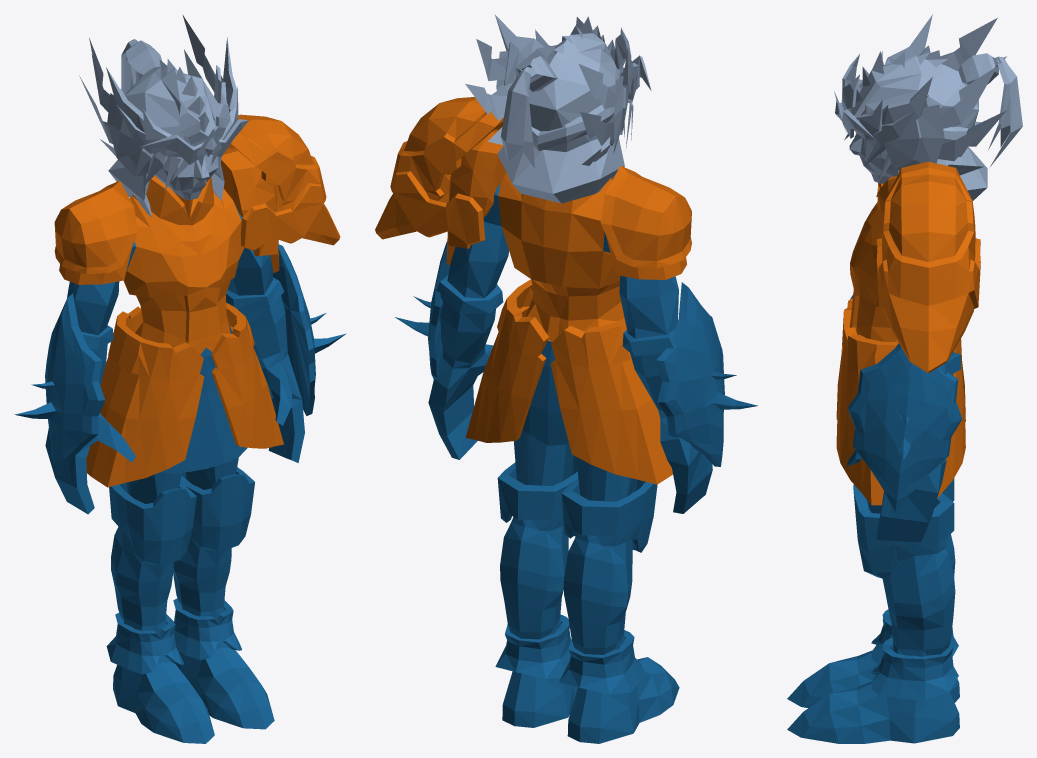
File: character_k3.glb
3 renders of one model, left to right at view 1: azimuth 30°, elevation 25°; view 2: azimuth 150°, elevation 25°; view 3: azimuth 270°, elevation 25°, orthographic. The views are drawn at different scales.
Parts seen in each view (by area): view 1: world; view 2: world; view 3: world.
Part boxes in pixels (<box>): world: <box>14,14,346,743</box>; world: <box>375,15,758,743</box>; world: <box>787,14,1022,743</box>.
Bounding box in the file's own units: 1.05 × 1.9 × 0.6027.
